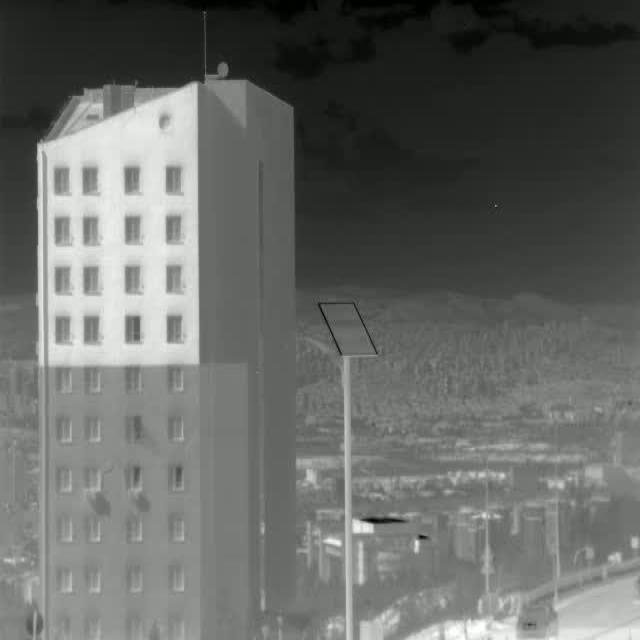Car: (516, 601, 558, 640)
